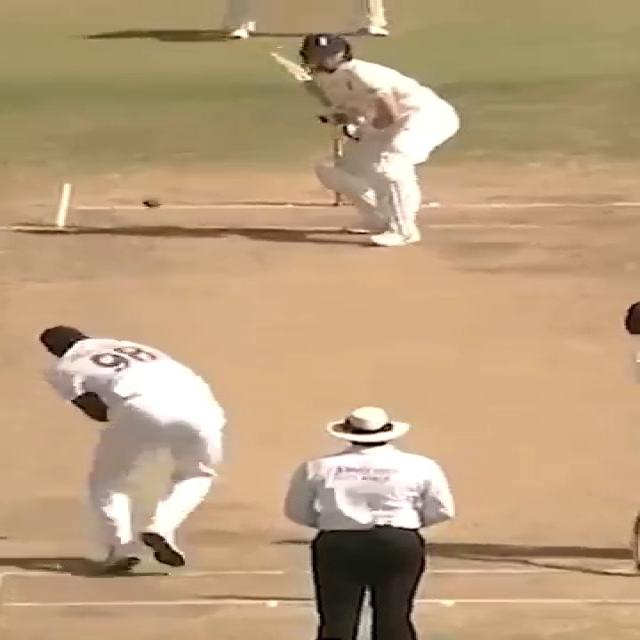Cricket ball: (138, 194, 167, 213)
